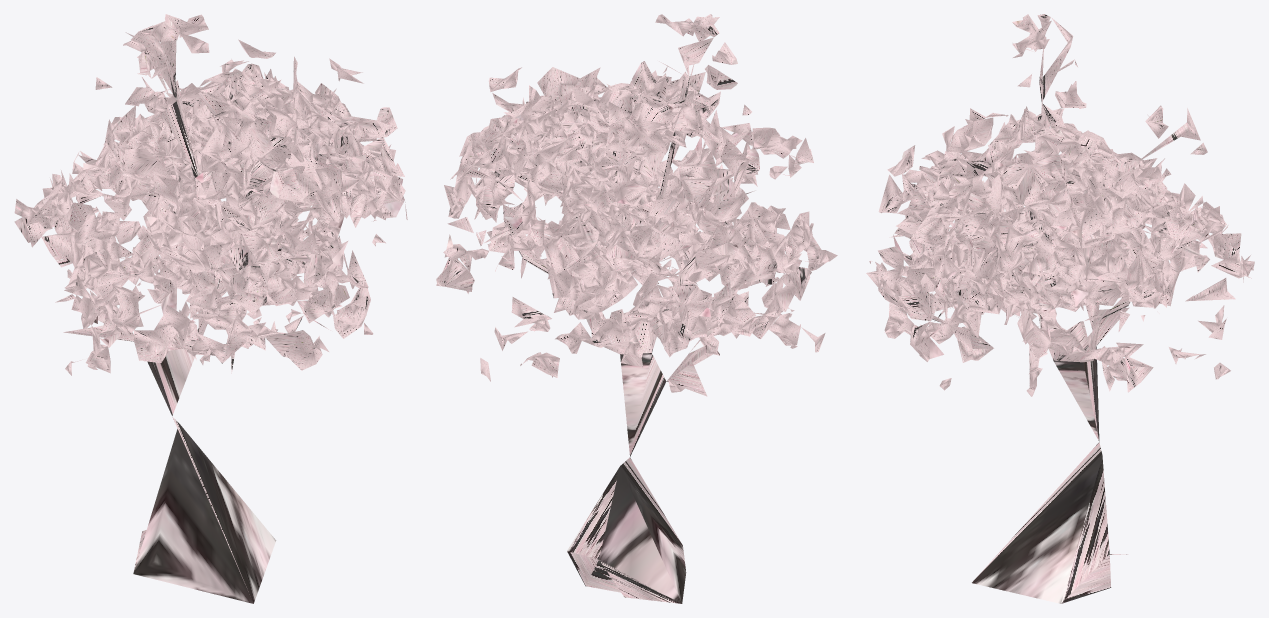
File: lib_blossom.mid.glb
3 views of the same model, side by side, from view 1: azimuth 30°, elevation 25°; view 2: azimuth 150°, elevation 25°; view 3: azimuth 270°, elevation 25° (orthographic). The views are drawn at different scales.
Parts seen in each view (by area): view 1: output_unwrapped; view 2: output_unwrapped; view 3: output_unwrapped.
Part boxes in pixels (x1,y1,x2,y2): output_unwrapped: (14, 14, 407, 603); output_unwrapped: (436, 14, 837, 603); output_unwrapped: (866, 14, 1254, 603).
Bounding box in the file's own units: 1.22 × 1.99 × 1.29.
1 material, 1 textured.
